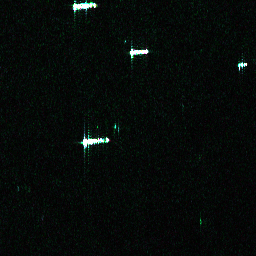ship: (80, 135, 110, 147), (70, 1, 98, 12), (128, 48, 149, 56), (236, 61, 248, 68)
